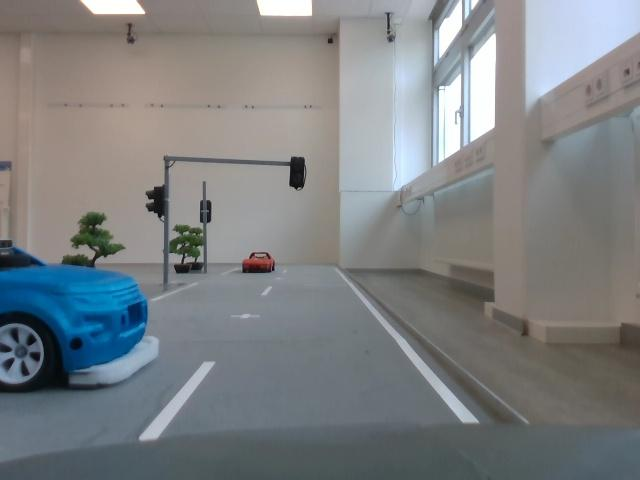car: (1, 241, 167, 401), (240, 251, 280, 279)
potted plant: (58, 212, 133, 267), (173, 225, 206, 274)
traffic light: (287, 155, 311, 193), (145, 185, 168, 220), (199, 200, 217, 229)
